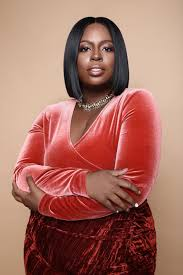black_female: (51, 4, 134, 105)
